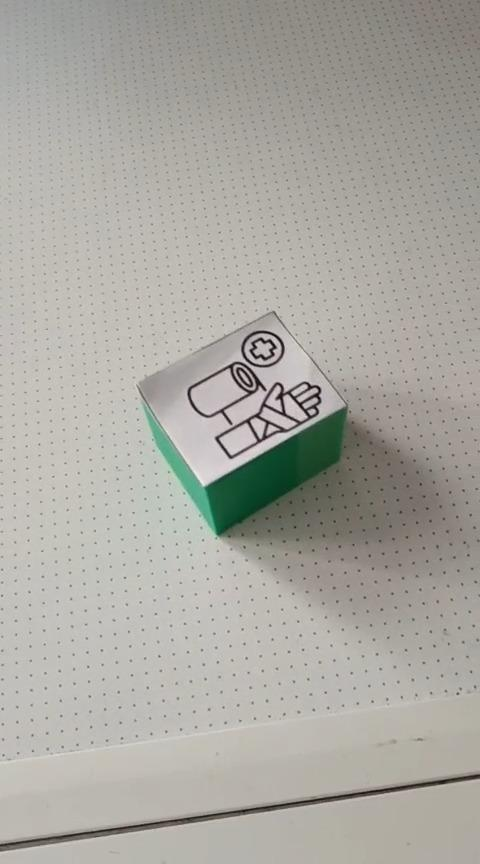Bandages: (135, 309, 348, 536)
